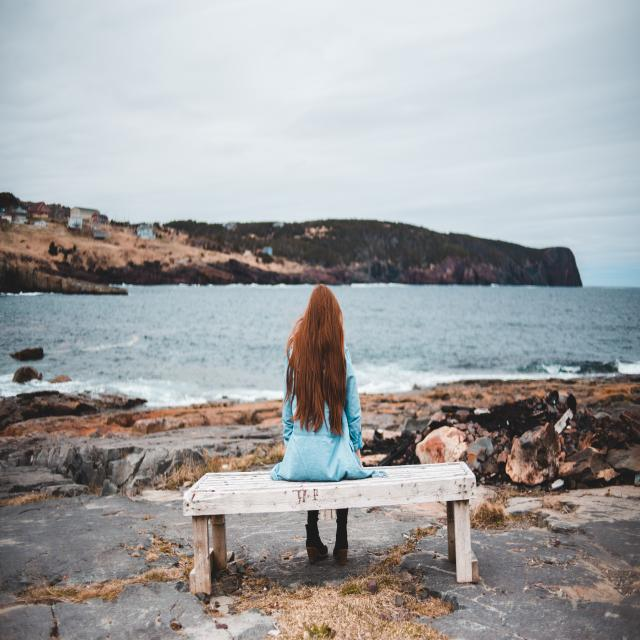nonfall: (267, 272, 376, 563)
